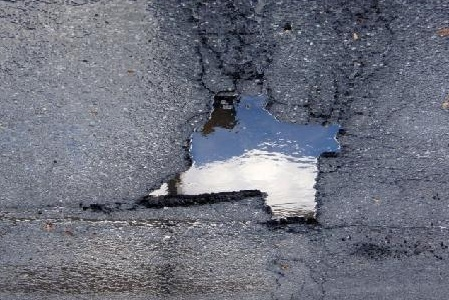pothole: (135, 84, 349, 234)
